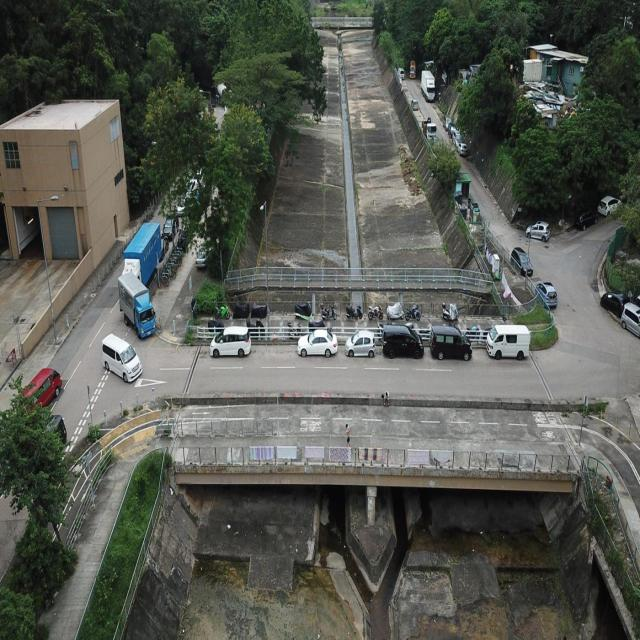car: (21, 366, 62, 411), (510, 246, 533, 276), (535, 281, 558, 308), (598, 195, 622, 217), (525, 221, 550, 242), (574, 210, 598, 231)
person: (345, 423, 350, 447)
tree: (0, 372, 78, 638)
